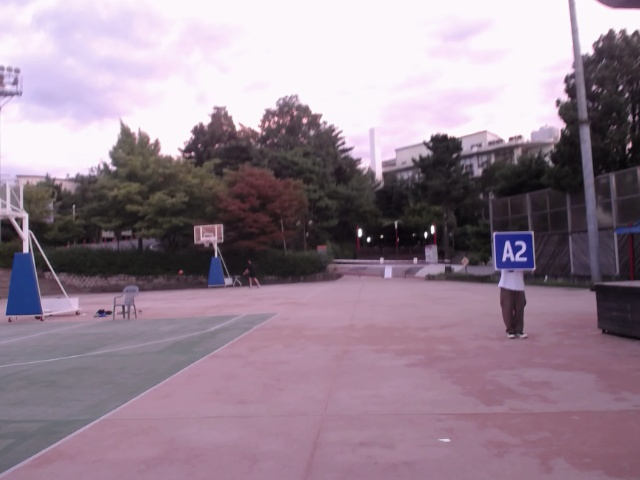delivery_a2: (494, 232, 535, 269)
